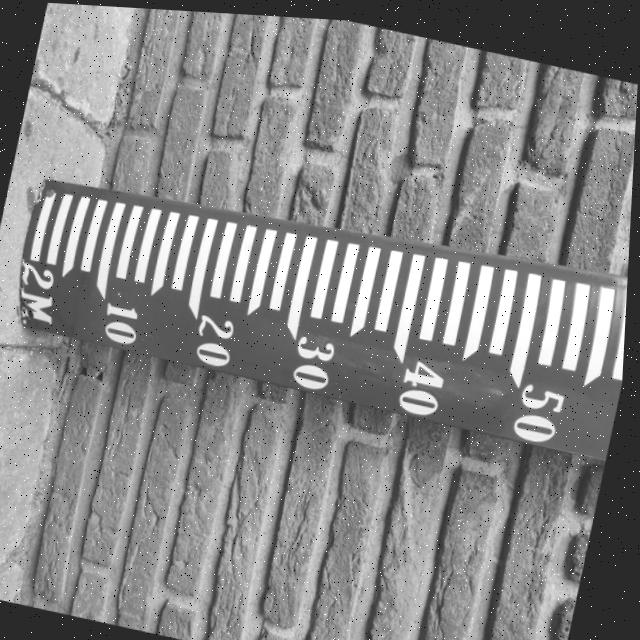water-meter: (0, 147, 632, 478)
